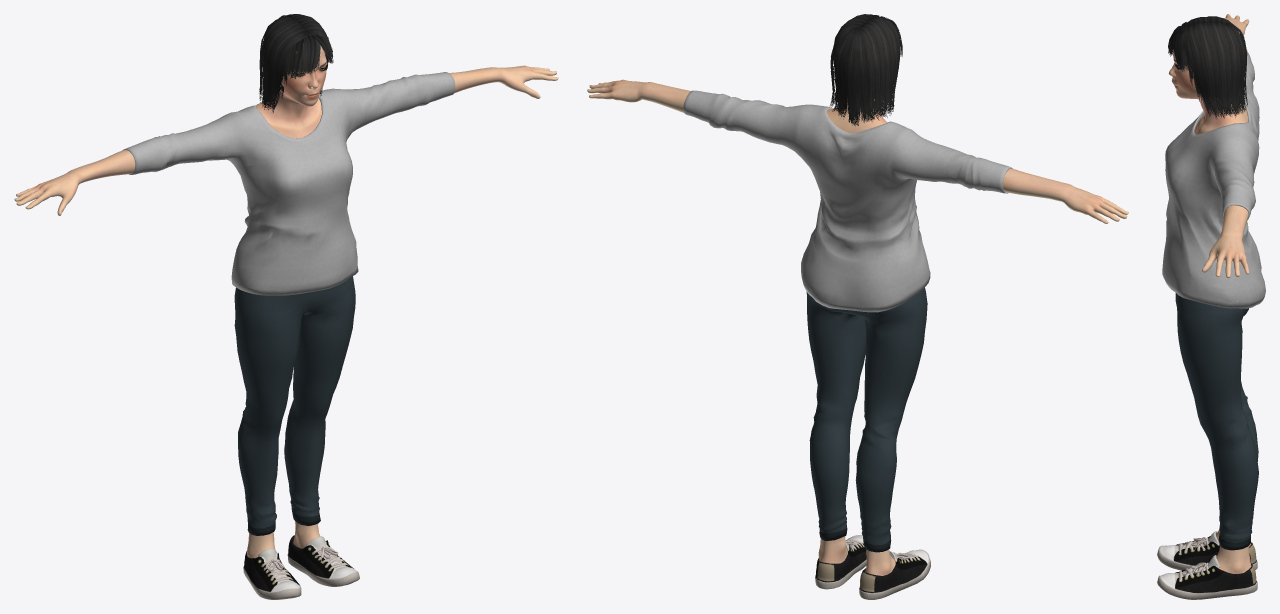
The model's file is Ethane.obj.
3 renders of one model, left to right at view 1: azimuth 30°, elevation 25°; view 2: azimuth 150°, elevation 25°; view 3: azimuth 270°, elevation 25°, orthographic.
Parts seen in each view (by area): view 1: Tops, Bottoms, Body, Hair, Shoes; view 2: Tops, Bottoms, Body, Hair, Shoes; view 3: Tops, Bottoms, Hair, Body, Shoes.
Boxes of the visible parts, x1,y1,x2,y2 form: Tops: (122,72,455,295); Bottoms: (234,276,355,535); Body: (14,44,558,558); Hair: (259,14,333,112); Shoes: (243,535,359,599); Tops: (683,90,1012,312); Bottoms: (806,288,927,552); Body: (587,79,1128,575); Hair: (830,14,902,126); Shoes: (815,535,930,599); Tops: (1162,52,1265,308); Bottoms: (1175,293,1258,550); Hair: (1168,16,1247,119); Body: (1168,14,1251,573); Shoes: (1157,531,1257,599).
Bounding box in the file's own units: 179 × 178 × 31.46.
5 materials, 5 textured.
